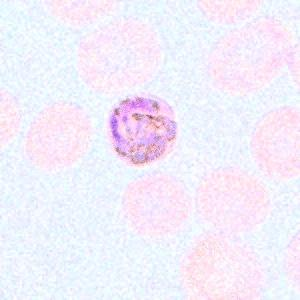Infected: (109, 98, 178, 165)
Uninfected: (75, 17, 166, 95), (210, 16, 291, 96), (182, 234, 263, 300), (25, 103, 94, 171), (195, 168, 270, 229), (121, 174, 191, 236)
